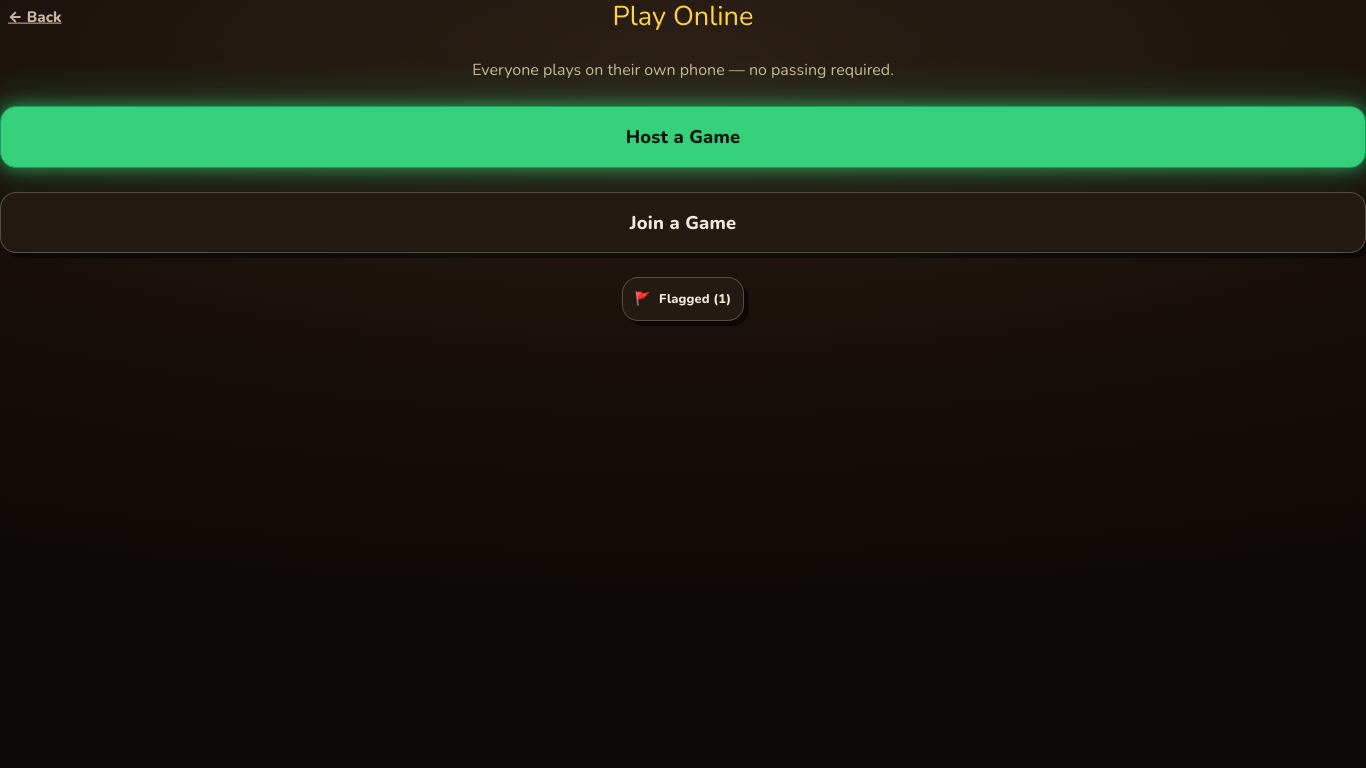
Scenario: MultiplayerHomeScreen › opens and closes FlaggedWordsSheet when Flagged button is clicked
Click the button "🚩 Flagged (1)" at (683, 299), box x1=622 y1=277 x2=744 y2=321
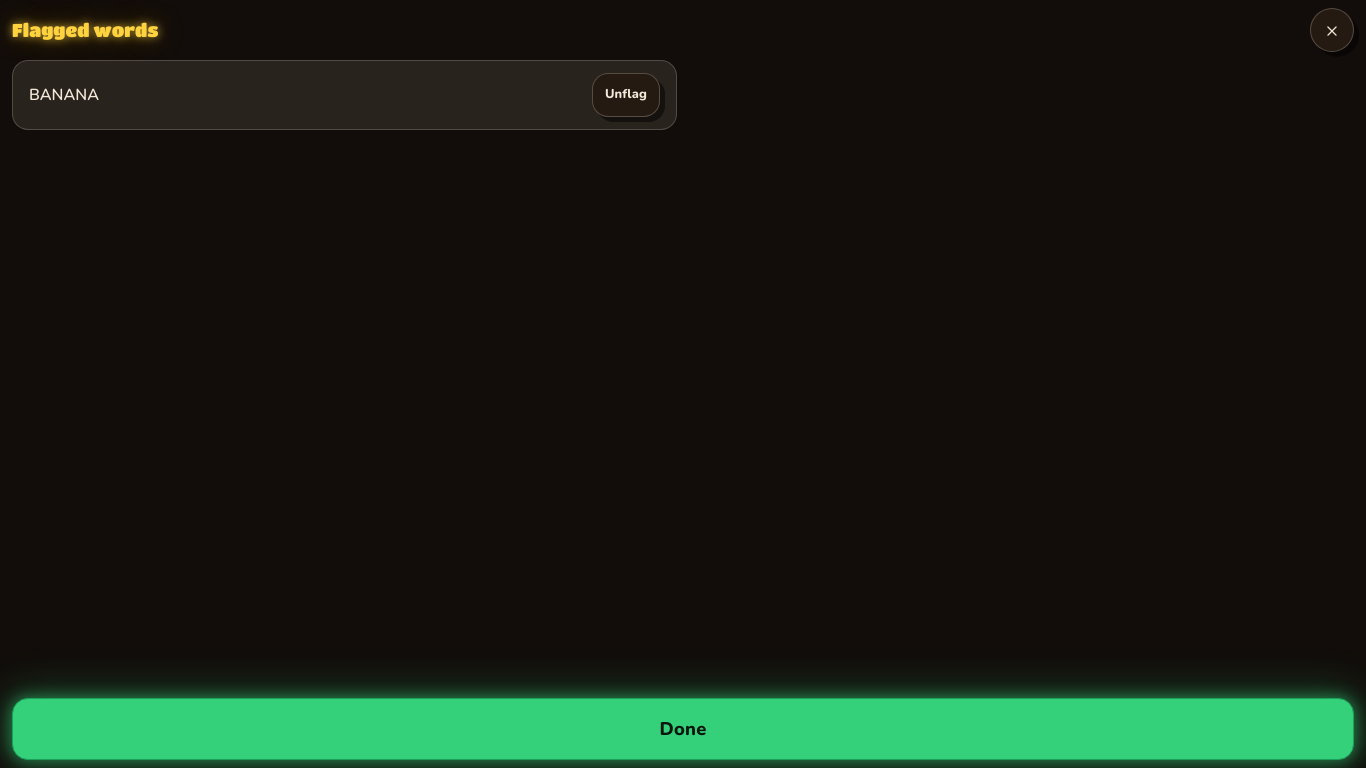
Now the text "Flagged words" is shown, box x1=12 y1=16 x2=158 y2=44
Now the text "BANANA" is shown, box x1=29 y1=83 x2=99 y2=107
Click the button named "close flagged words" at (1332, 30), box x1=1310 y1=8 x2=1354 y2=52
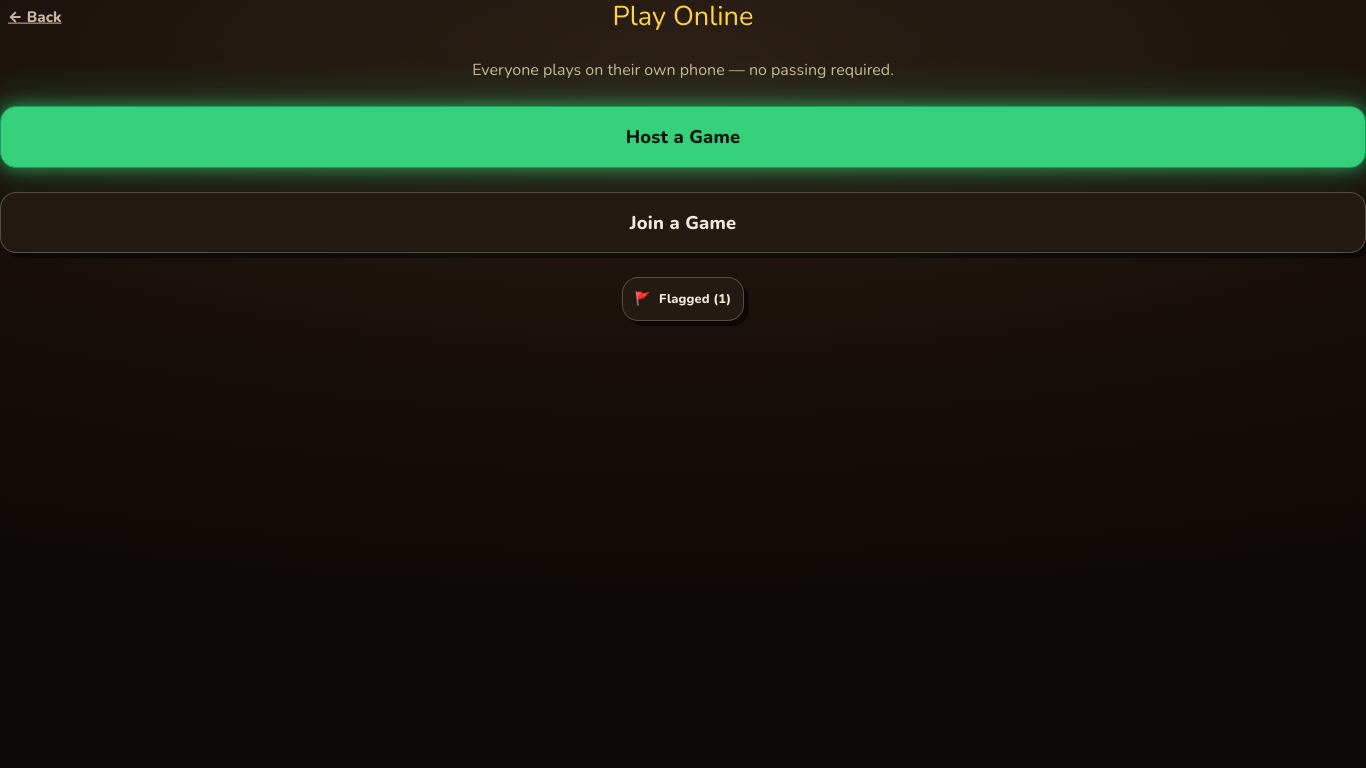
Now the text "Flagged words" is gone
